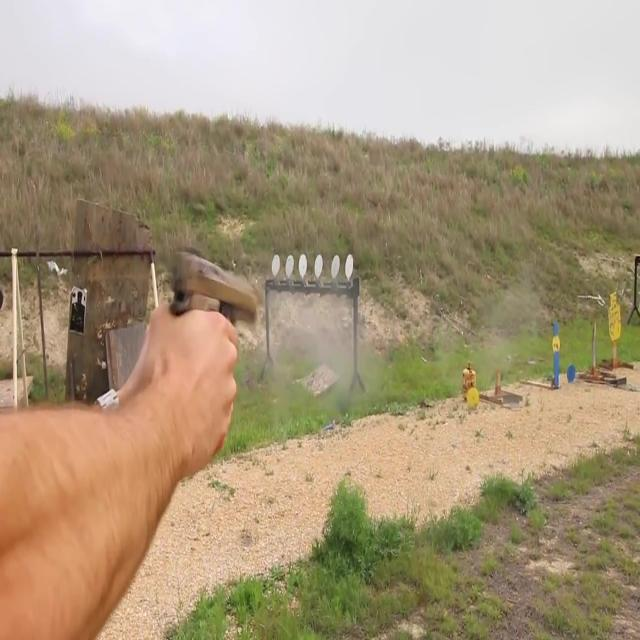Weapon: (150, 228, 284, 410)
